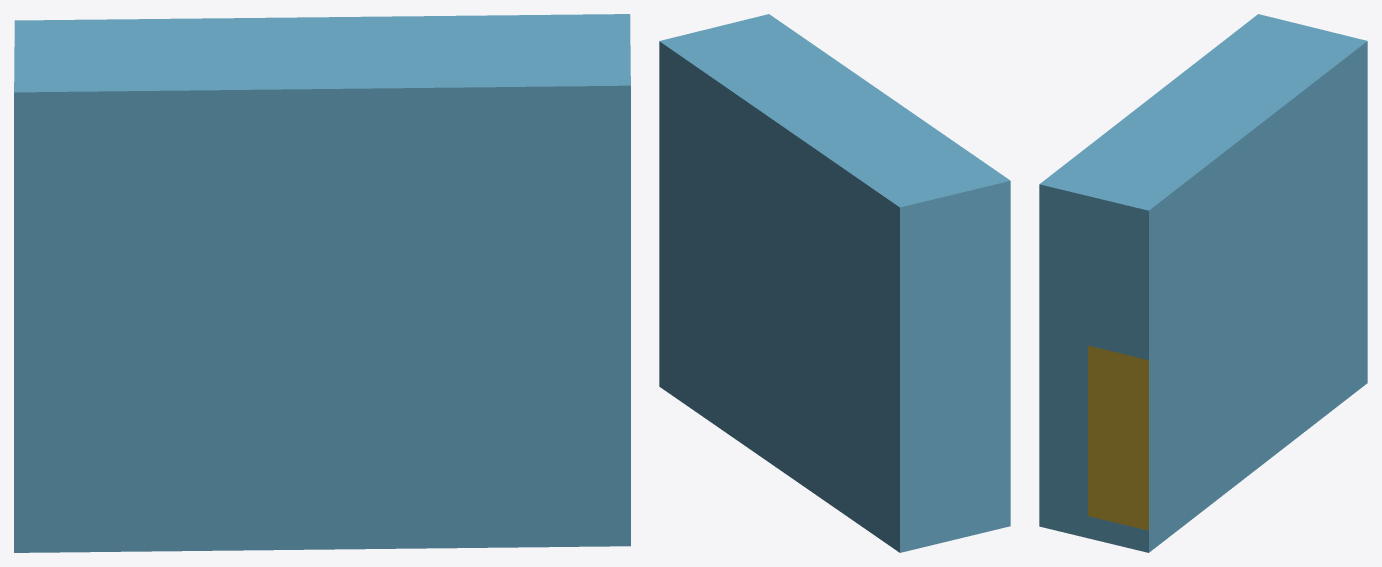
File: bldg_c26f4f89-0030-4203-8011-423f58eba41e.obj
3 renders of one model, left to right at view 1: azimuth 30°, elevation 25°; view 2: azimuth 150°, elevation 25°; view 3: azimuth 270°, elevation 25°, orthographic. The views are drawn at different scales.
Bounding box in the file's own units: 12.06 × 9.79 × 8.5.
